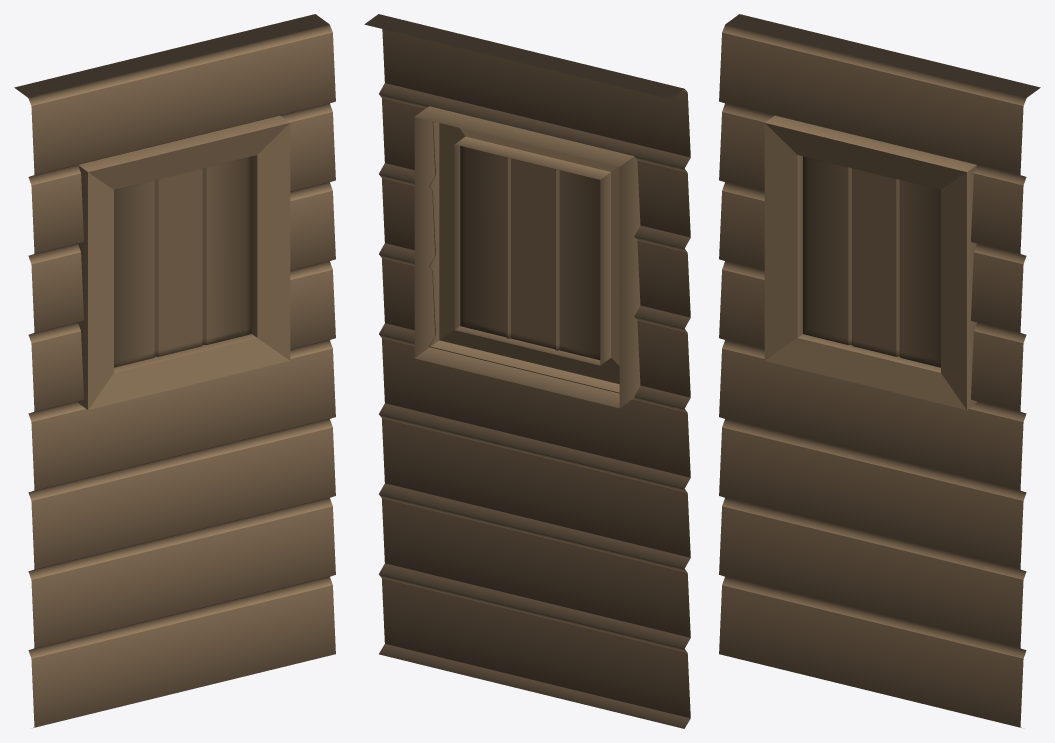
The model's file is plank_wall_window_closed.fbx.
3 renders of one model, left to right at view 1: azimuth 30°, elevation 25°; view 2: azimuth 150°, elevation 25°; view 3: azimuth 330°, elevation 25°, orthographic.
Parts seen in each view (by area): view 1: plank_wall_window_closed; view 2: plank_wall_window_closed; view 3: plank_wall_window_closed.
Boxes of the visible parts, x1=… form: plank_wall_window_closed: x1=14, y1=14, x2=335, y2=727; plank_wall_window_closed: x1=364, y1=14, x2=690, y2=728; plank_wall_window_closed: x1=719, y1=14, x2=1040, y2=727.
Bounding box in the file's own units: 100 × 200 × 14.
